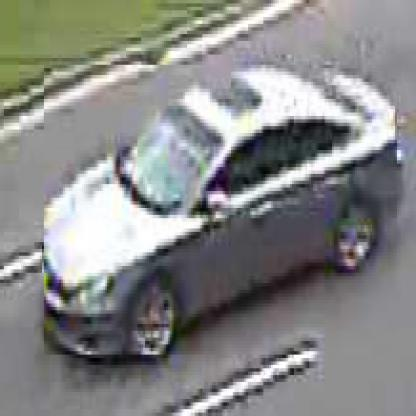car: (43, 66, 398, 359)
